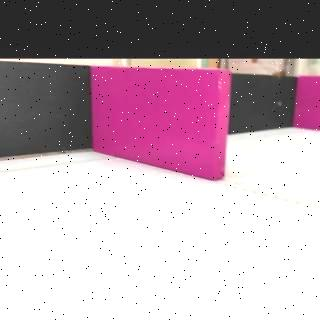xparking: (93, 70, 227, 174), (300, 74, 320, 128)
